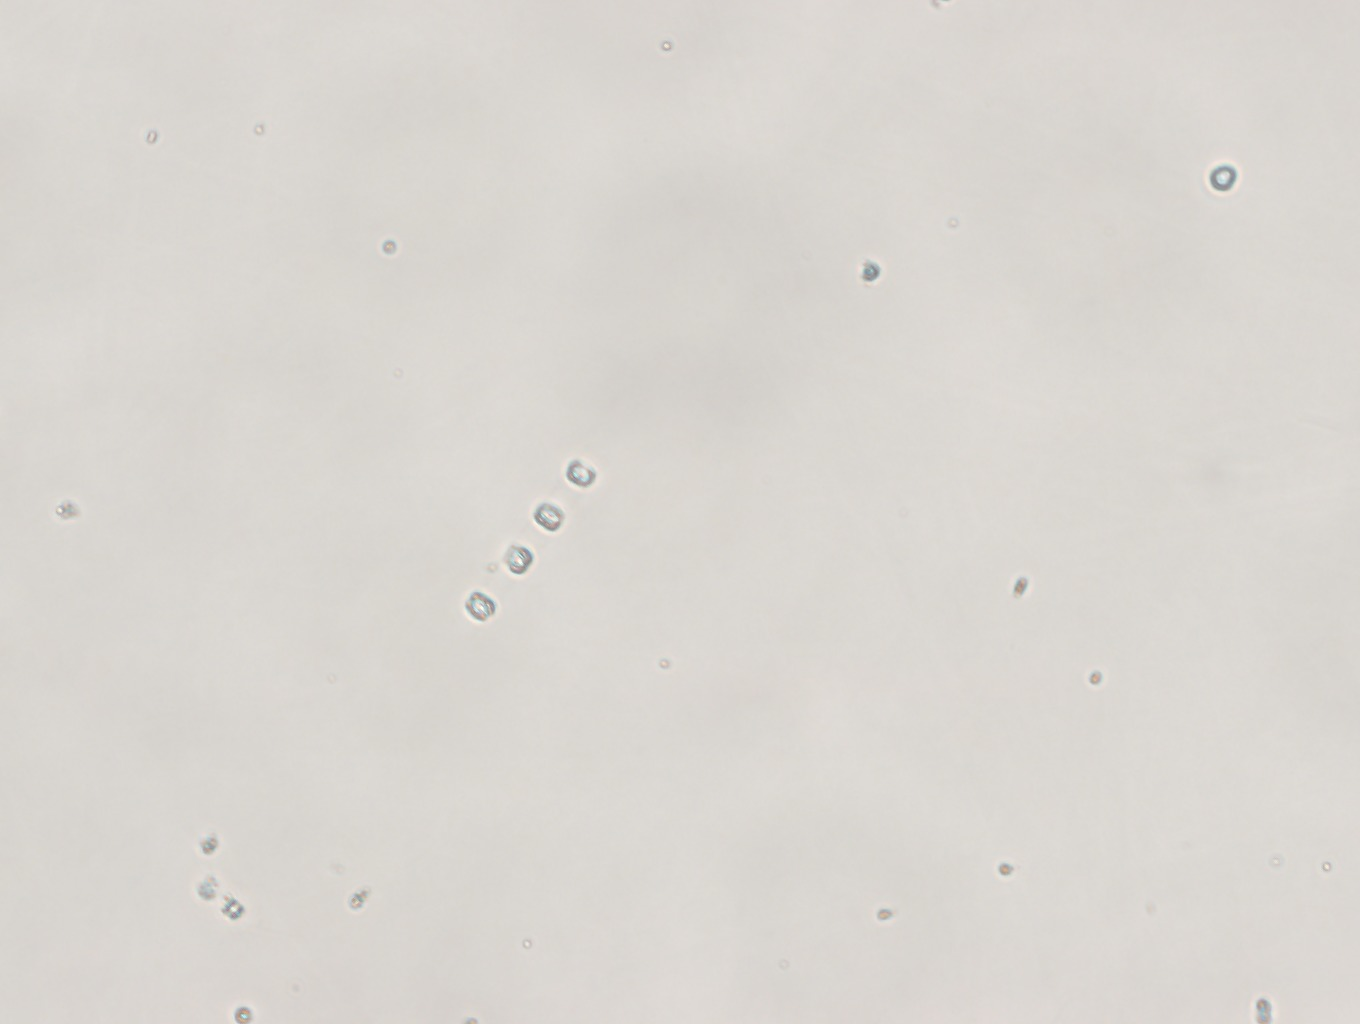skeletonema: (453, 451, 614, 648)
